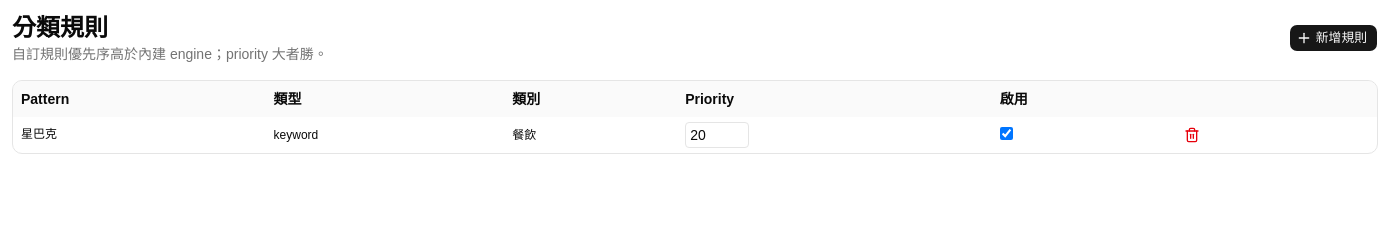
Scenario: SettingsRulesPage › shows error banner when toggle PUT fails
Click the checkbox named "toggle 星巴克": [1006, 134] box [1000, 127, 1013, 140]
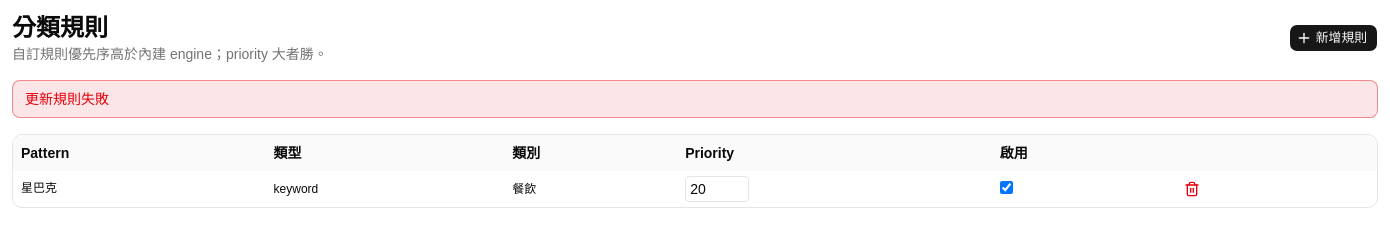
Now the message reads "更新規則失敗", box [25, 91, 109, 107]
